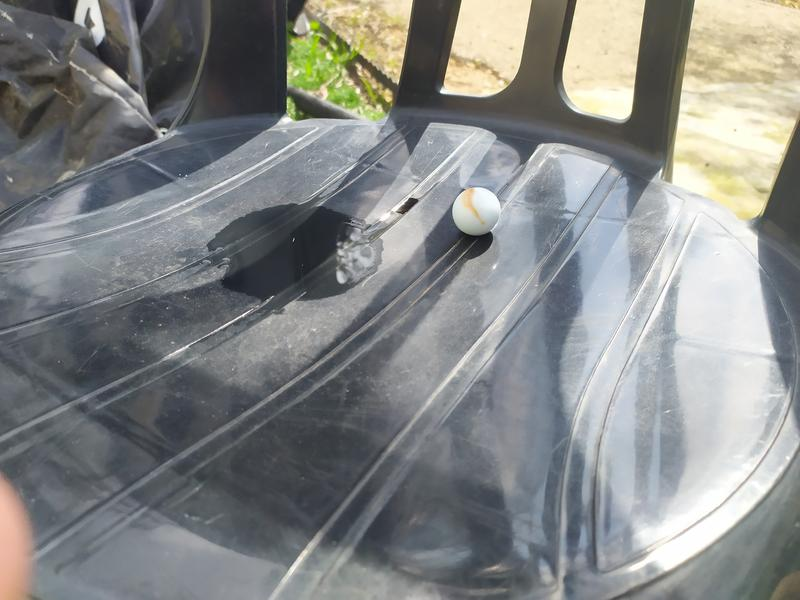Warning: (450, 185, 503, 238)
